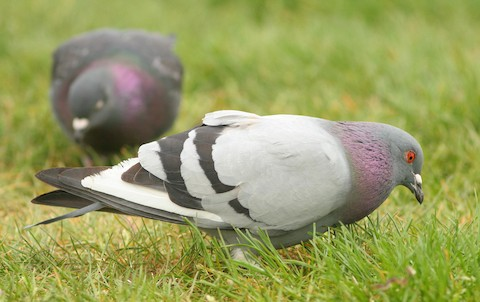pigeon: (19, 104, 433, 272), (38, 23, 191, 159)
